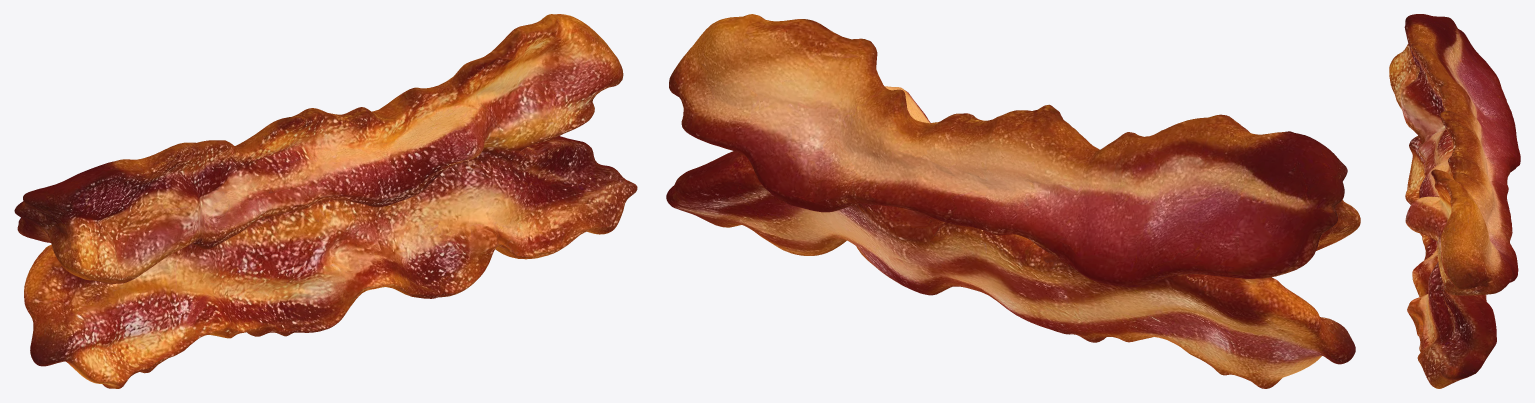
The model's file is bacon.glb.
The picture shows the model from 3 angles, left to right: view 1: azimuth 30°, elevation 25°; view 2: azimuth 150°, elevation 25°; view 3: azimuth 270°, elevation 25°; orthographic projection. The views are drawn at different scales.
Parts seen in each view (by area): view 1: Mesh_0; view 2: Mesh_0; view 3: Mesh_0.
Part boxes in pixels (x1,y1,x2,y2): Mesh_0: (14,14,637,388); Mesh_0: (666,14,1360,388); Mesh_0: (1389,14,1520,388).
Size of the model in its own units: 1.9 by 0.7242 by 0.4305.
1 material, 1 textured.
